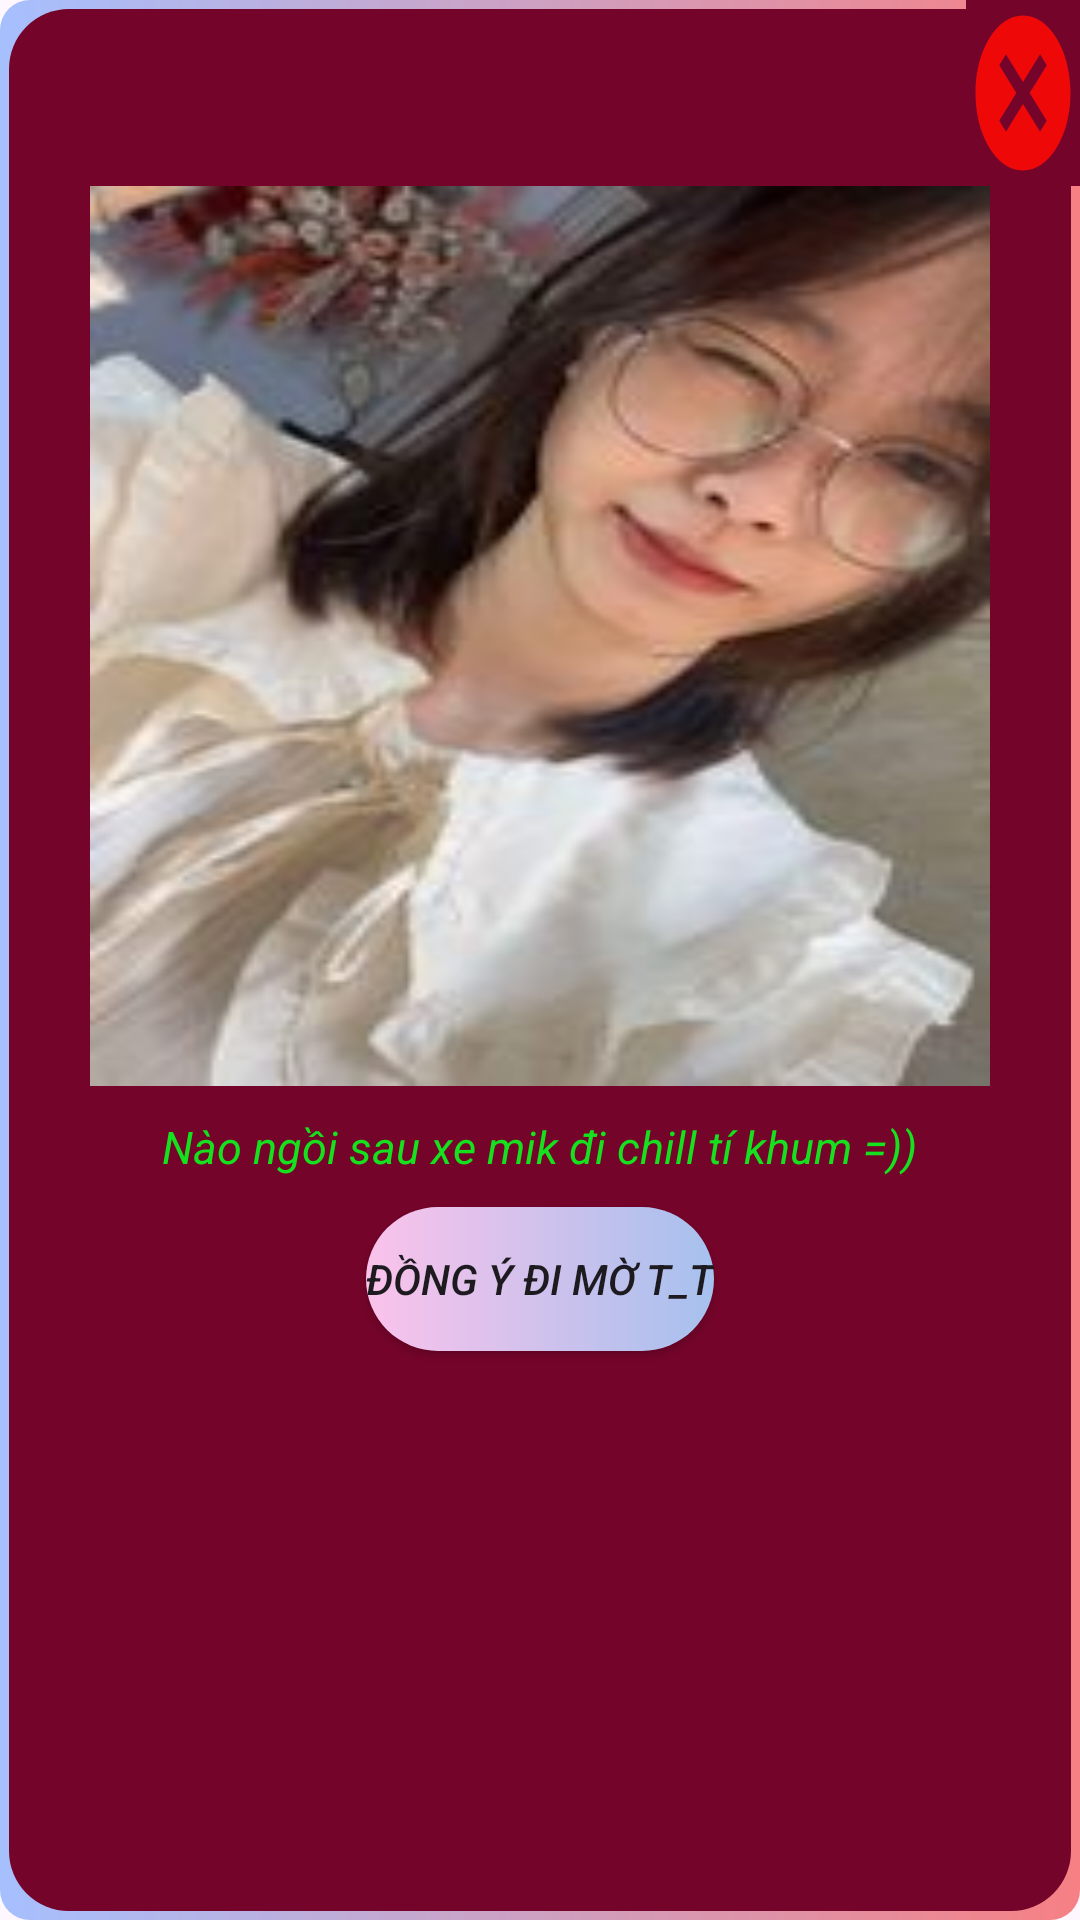

Named icons in this screenshot (1080×1920) and their centers, (x,y):
close: (1023,93)
